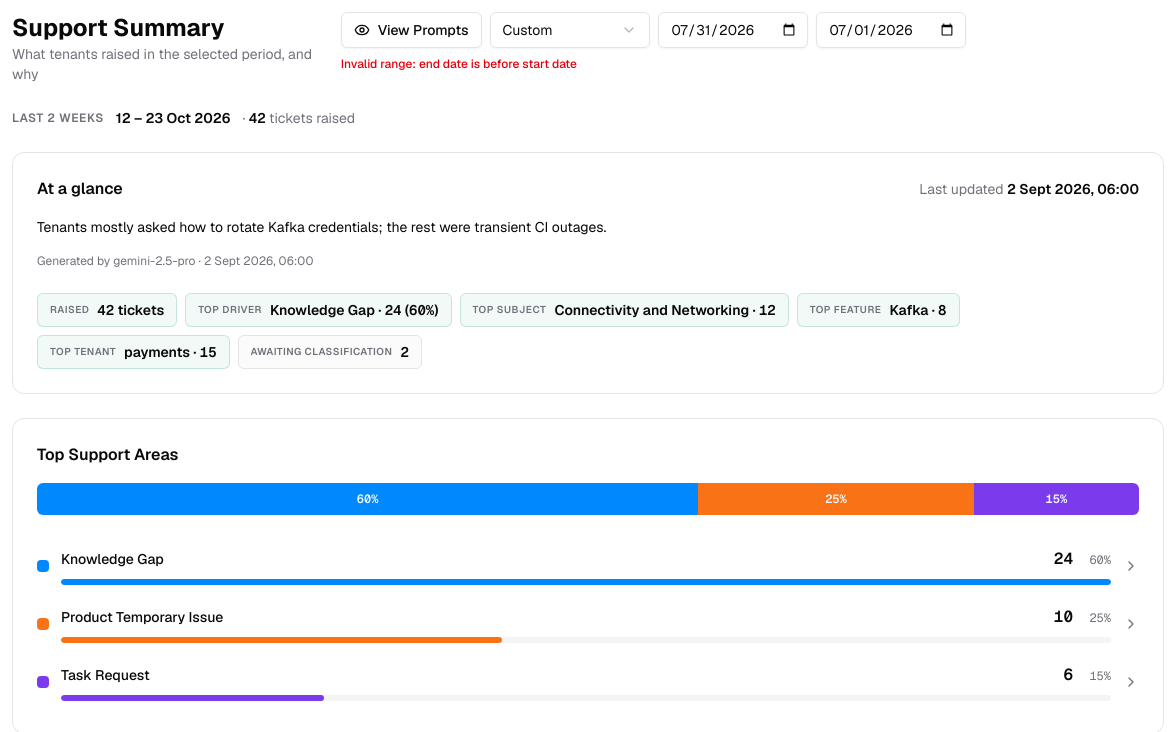
it: SupportSummaryPage › Date window › clears the inline problem once the range is corrected
Check: the message "Invalid range: end date is before start date" is shown, box x1=341 y1=56 x2=577 y2=72
Type "2026-08-15" into the date field named "To date" at (890, 30), box x1=816 y1=12 x2=966 y2=48
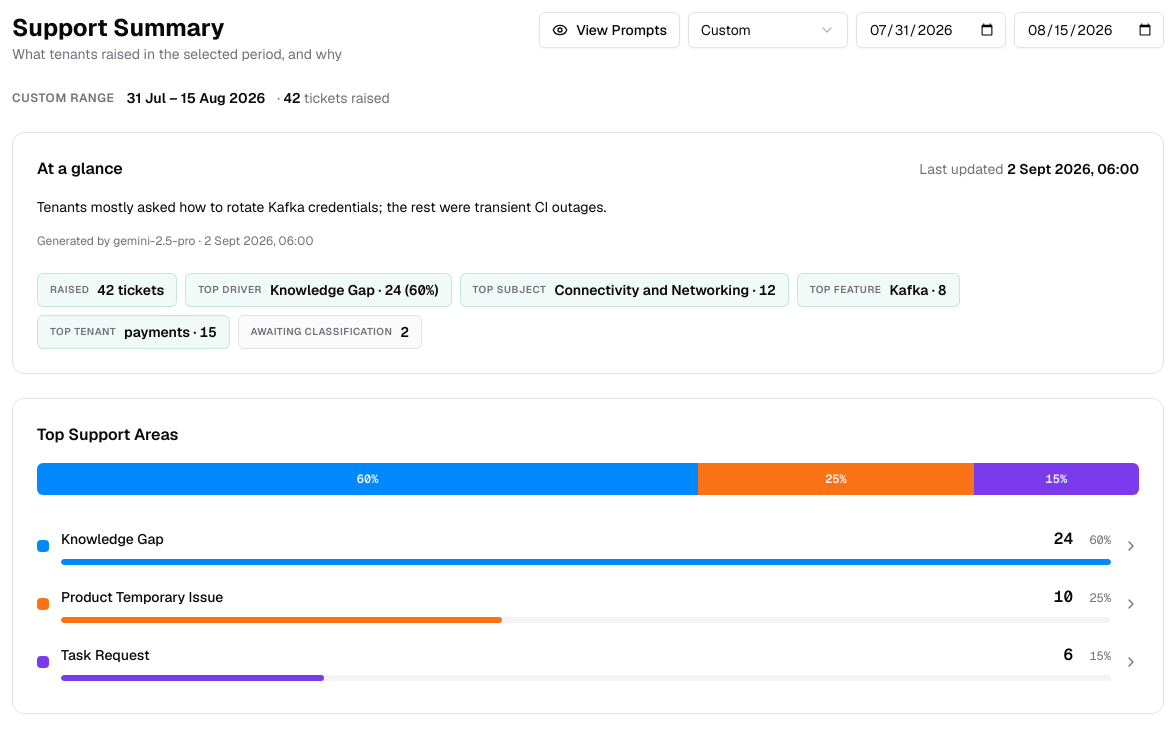
Check: the message "Invalid range: end date is before start date" is gone
